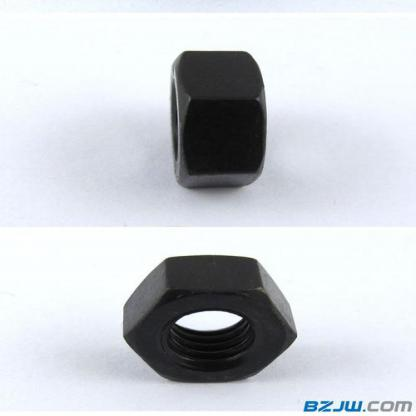FOD: (119, 253, 299, 388), (167, 44, 272, 196)
